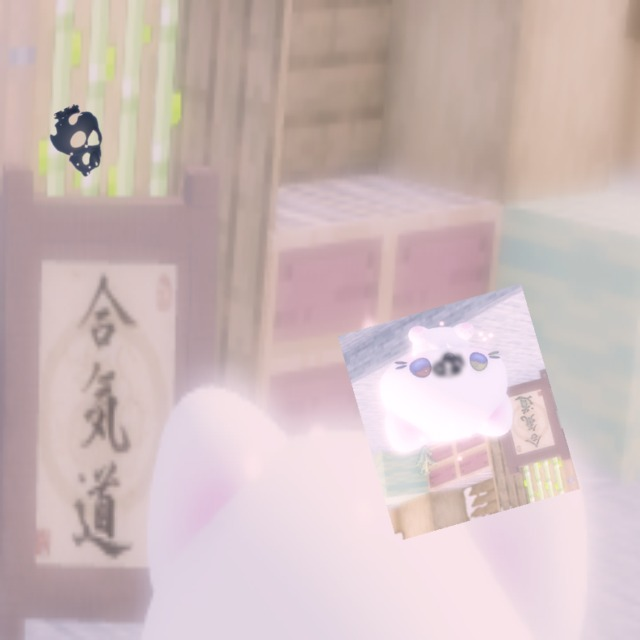urso_branco: (337, 283, 581, 542)
urso_preto: (36, 97, 122, 190), (425, 347, 468, 386)
